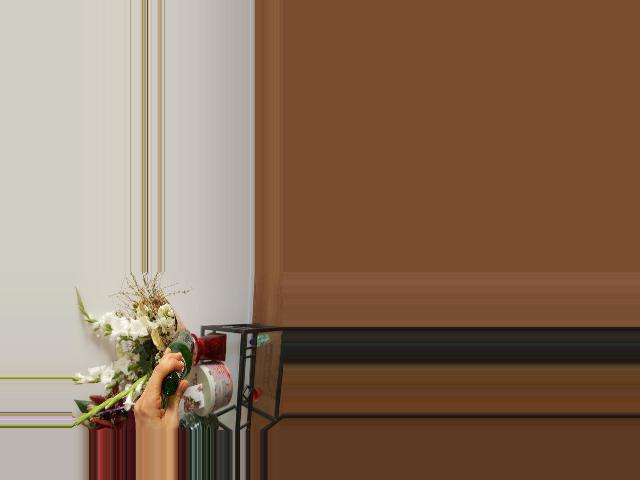beer: (162, 331, 194, 396)
